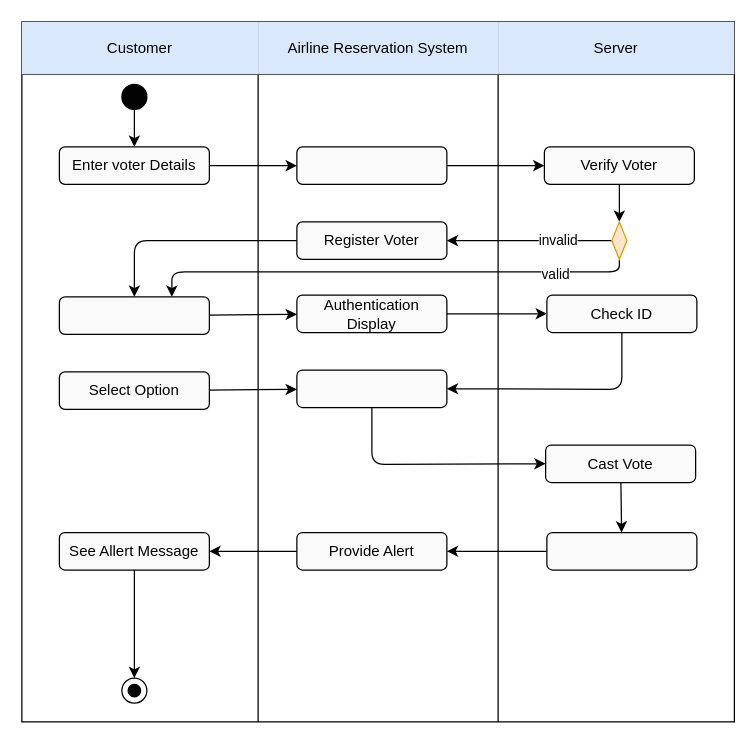
This 756x744 diagram has some shape labels left out. Here are the shapes that lost their labels. From the top down, the centre of each, then its label:
At point (371, 165): "Display Registration Page".
At point (133, 315): "Enter voter ID".
At point (371, 388): "Voting Option".
At point (621, 550): "Update Database".
